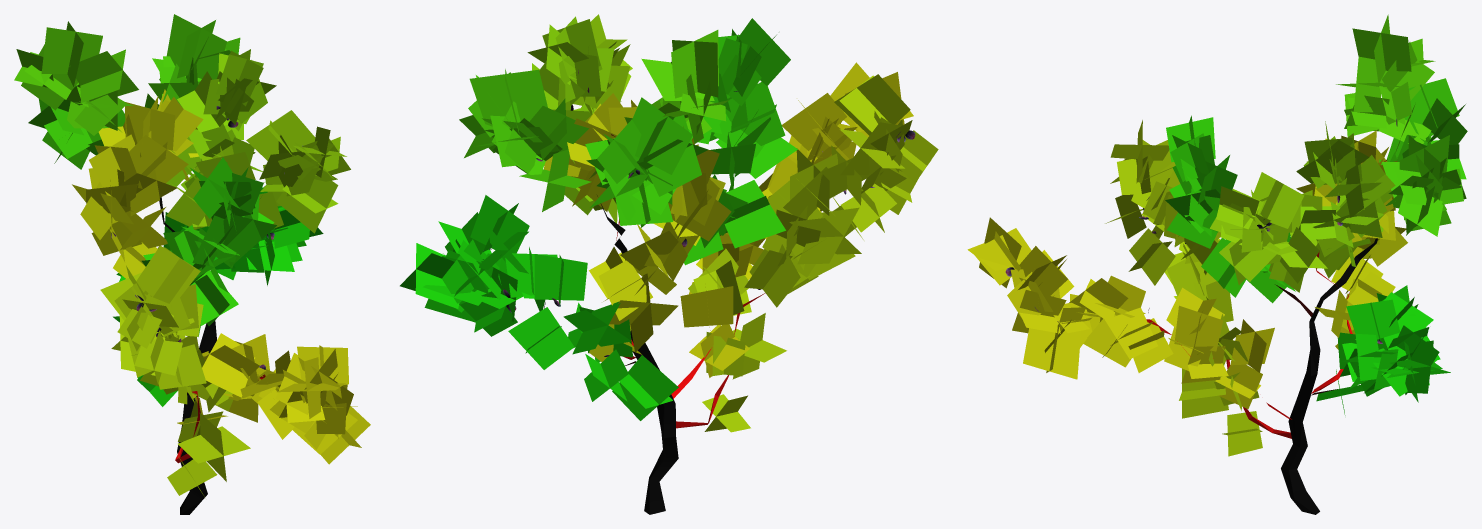
Rendered from plum1 lod2.FBX.
3 renders of one model, left to right at view 1: azimuth 30°, elevation 25°; view 2: azimuth 150°, elevation 25°; view 3: azimuth 270°, elevation 25°, orthographic. The views are drawn at different scales.
Parts seen in each view (by area): view 1: plum1_LOD2; view 2: plum1_LOD2; view 3: plum1_LOD2.
Part boxes in pixels (box(x1,y1,x2,y2)): plum1_LOD2: box(14, 14, 370, 514); plum1_LOD2: box(400, 14, 938, 514); plum1_LOD2: box(967, 14, 1467, 514).
Size of the model in its own units: 131618 by 183491 by 183887.
